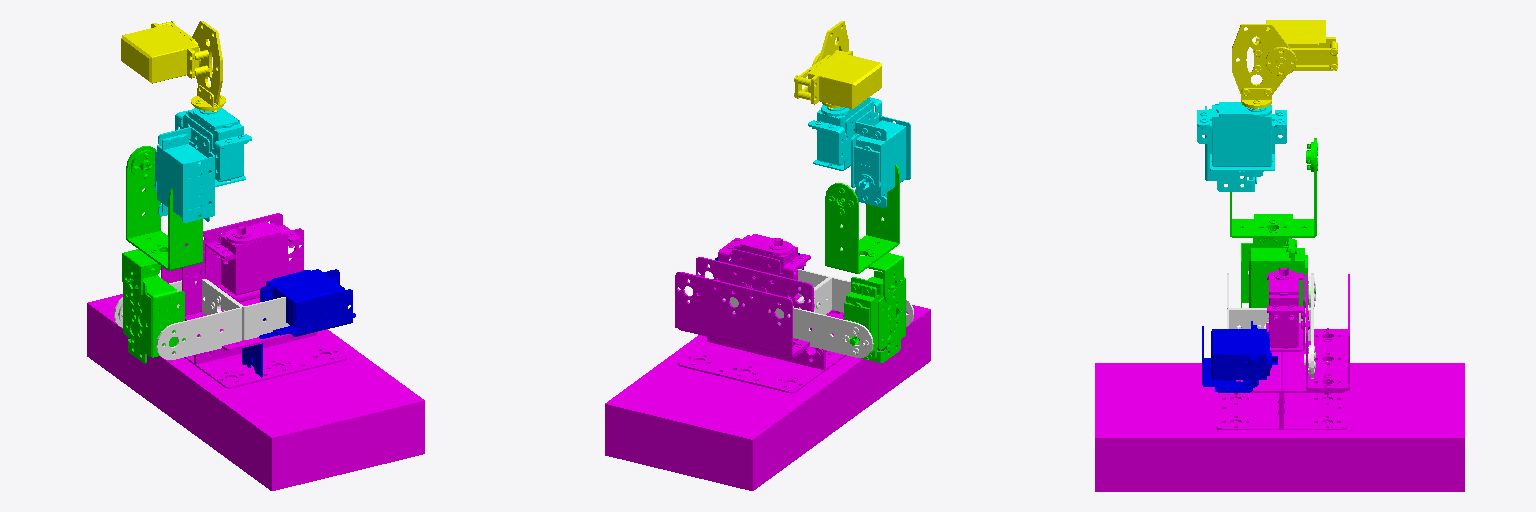
The robot description file, URDF, robot "dragon_model":
<robot name="dragon_model" version="1.0">
  
  <joint name="left_hand_finger_joint" type="prismatic">
        <parent link="servo5_servo6_link" />
        <child link="Left_finger_link" />
        <origin rpy="-1.57080 0.00000 0.00000" xyz="0.00121974 0.02889340 -0.00150631" />
        <axis xyz="0 -1 0" />
        <limit effort="20" lower="0.0" upper="0.014" velocity="0.2" />
  </joint>
  <joint name="right_hand_finger_joint" type="prismatic">
        <parent link="servo5_servo6_link" />
        <child link="Right_finger_link" />
        <origin rpy="-1.57080 0.00000 0.00000" xyz="0.00121974 0.02889340 -0.00150631" />
        <axis xyz="0 1 0" />
        <limit effort="20" lower="0.0" upper="0.014" velocity="0.2" />
        <mimic joint="left_hand_finger_joint" />
  </joint>
    
  <joint name="wrist_link_joint" type="revolute">
    <limit lower="0.00000" upper="3.14200" effort="0.00000" velocity="0.00000"/>
    <origin rpy="-1.57080 0.00000 0.00000" xyz="0.02635443 0.01175584 -0.05258687"/>
    <parent link="servo4_servo5_link"/>
    <child link="servo5_servo6_link"/>
    <axis xyz="0.00000 1.00000 0.00000"/>
  </joint>
  <joint name="servo1_servo2_link_joint" type="revolute">
    <limit lower="0.00000" upper="3.14000" effort="0.00000" velocity="0.00000"/>
    <origin rpy="0.00000 0.00000 -1.57080" xyz="0.03520297 -0.02811148 0.12893631"/>
    <parent link="base_link"/>
    <child link="servo1_servo2_link"/>
    <axis xyz="0.00000 0.00000 1.00000"/>
  </joint>
  <joint name="servo2_servo3_link.000_joint" type="revolute">
    <limit lower="0.00000" upper="3.14200" effort="0.00000" velocity="0.00000"/>
    <origin rpy="-1.57080 3.14159 1.57080" xyz="-0.02486075 -0.00188139 0.01544978"/>
    <parent link="servo1_servo2_link"/>
    <child link="servo2_servo3_link.000"/>
    <axis xyz="0.00000 0.00000 1.00000"/>
  </joint>
  <joint name="servo3_servo4_link_joint" type="revolute">
    <limit lower="0.00000" upper="3.14200" effort="0.00000" velocity="0.00000"/>
    <origin rpy="-1.57080 0.00000 3.14159" xyz="0.10273750 -0.00041143 -0.00050667"/>
    <parent link="servo2_servo3_link.000"/>
    <child link="servo3_servo4_link"/>
    <axis xyz="0.00000 1.00000 0.00000"/>
  </joint>
  <joint name="servo4_servo5_link_joint" type="revolute">
    <limit lower="0.00000" upper="3.14200" effort="0.00000" velocity="0.00000"/>
    <origin rpy="-0.00000 0.00000 -0.00000" xyz="0.00858899 0.00200931 -0.10183699"/>
    <parent link="servo3_servo4_link"/>
    <child link="servo4_servo5_link"/>
    <axis xyz="0.00000 1.00000 0.00000"/>
  </joint>
  
  
  <link name="Left_finger_link">
    <collision name="left_finger_collision">
      <origin rpy="0.00000 0.00000 1.57080" xyz="0.00452769 -0.00841628 0.02220276"/>
      <geometry>
        <mesh filename="package://moveit_resources_dragon_description/meshes/stl/left_finger.stl" scale="0.00100 0.00100 0.00100"/>
      </geometry>
    </collision>
    
    <visual name="left_finger">
      <origin rpy="0.00000 0.00000 1.57080" xyz="0.00452769 -0.00841628 0.02220276"/>
      <geometry>
        <mesh filename="package://moveit_resources_dragon_description/meshes/stl/left_finger.stl" scale="0.00100 0.00100 0.00100"/>
      </geometry>
      <material name="white">
        <color rgba="1 1 1 1"/>
      </material>
    </visual>
    
  </link>
  
  <link name="Right_finger_link">
    <collision name="right_finger_collision">
      <origin rpy="0.00000 0.00000 1.57080" xyz="0.00452769 0.00554310 0.02219476"/>
      <geometry>
        <mesh filename="package://moveit_resources_dragon_description/meshes/stl/right_finger.stl" scale="0.00100 0.00100 0.00100"/>
      </geometry>
    </collision>
    
    <visual name="right_finger">
      <origin rpy="0.00000 0.00000 1.57080" xyz="0.00452769 0.00554310 0.02219476"/>
      <geometry>
        <mesh filename="package://moveit_resources_dragon_description/meshes/stl/right_finger.stl" scale="0.00100 0.00100 0.00100"/>
      </geometry>
      <material name="white">
        <color rgba="1 1 1 1"/>
      </material>
    </visual>
  </link>
  
  
  <link name="base_link">
    <collision name="base_collision">
      <origin rpy="1.57080 0.0 -1.57080" xyz="0.00000 0.00000 0.06715160"/>
      <geometry>
        <mesh filename="package://moveit_resources_dragon_description/meshes/stl/base.stl" scale="0.00100 0.00100 -0.00100"/>
      </geometry>
    </collision>
    <visual name="base">
      <origin rpy="1.57080 0.0 -1.57080" xyz="0.00000 0.00000 0.06715160"/>
      <geometry>
        <mesh filename="package://moveit_resources_dragon_description/meshes/stl/base.stl" scale="0.00100 0.00100 -0.00100"/>
      </geometry>
      <material name="Magenta">
        <color rgba="1.0 0.0 1.0 1.0"/>
      </material>
    </visual>
  </link>
  <link name="servo1_servo2_link">
    <collision name="Joint1_collision">
      <origin rpy="0.00000 0.00000 -0.00000" xyz="0.00036541 0.00745386 0.00306137"/>
      <geometry>
        <mesh filename="package://moveit_resources_dragon_description/meshes/stl/joint1.stl" scale="0.00100 0.00100 0.00100"/>
      </geometry>
    </collision>
    <visual name="Joint1">
      <origin rpy="0.00000 0.00000 -0.00000" xyz="0.00036541 0.00745386 0.00306137"/>
      <geometry>
        <mesh filename="package://moveit_resources_dragon_description/meshes/stl/joint1.stl" scale="0.00100 0.00100 0.00100"/>
      </geometry>
      <material name="Blue">
        <color rgba="0 0 1 1"/>
      </material>
    </visual>
  </link>
  <link name="servo2_servo3_link.000">
    <collision name="joint2_collision">
      <origin rpy="1.57080 -0.00000 1.57080" xyz="0.00000935 0.00002258 -0.00463633"/>
      <geometry>
        <mesh filename="package://moveit_resources_dragon_description/meshes/stl/joint2.stl" scale="0.00100 0.00100 0.00100"/>
      </geometry>
    </collision>
    <visual name="joint2">
      <origin rpy="1.57080 -0.00000 1.57080" xyz="0.00000935 0.00002258 -0.00463633"/>
      <geometry>
        <mesh filename="package://moveit_resources_dragon_description/meshes/stl/joint2.stl" scale="0.00100 0.00100 0.00100"/>
      </geometry>
      <material name="white">
        <color rgba="1 1 1 1"/>
      </material>
    </visual>
  </link>
  <link name="servo3_servo4_link">
    <collision name="Joint3_collision">
      <origin rpy="1.57080 -1.57080 0.00000" xyz="0.00001077 0.00020426 0.00000900"/>
      <geometry>
        <mesh filename="package://moveit_resources_dragon_description/meshes/stl/joint3.stl" scale="0.00100 0.00100 0.00100"/>
      </geometry>
    </collision>
    <visual name="Joint3">
      <origin rpy="1.57080 -1.57080 0.00000" xyz="0.00001077 0.00020426 0.00000900"/>
      <geometry>
        <mesh filename="package://moveit_resources_dragon_description/meshes/stl/joint3.stl" scale="0.00100 0.00100 0.00100"/>
      </geometry>
      <material name="Green">
        <color rgba="0 1 0 1"/>
      </material>
    </visual>
  </link>
  <link name="servo4_servo5_link">
    <collision name="Joint4_collision">
      <origin rpy="1.57080 0.00000 0.00000" xyz="-0.00058125 0.04363523 -0.00975798"/>
      <geometry>
        <mesh filename="package://moveit_resources_dragon_description/meshes/stl/joint4.stl" scale="0.00100 0.00100 0.00100"/>
      </geometry>
    </collision>
    <visual name="Joint4">
      <origin rpy="1.57080 0.00000 0.00000" xyz="-0.00058125 0.04363523 -0.00975798"/>
      <geometry>
        <mesh filename="package://moveit_resources_dragon_description/meshes/stl/joint4.stl" scale="0.00100 0.00100 0.00100"/>
      </geometry>
      <material name="Cyan">
        <color rgba="0.0 1.0 1.0 1.0"/>
      </material>
    </visual>
  </link>
  <link name="servo5_servo6_link">
    <collision name="Gripper_palm_collision">
      <origin rpy="-0.00000 0.00000 -0.00000" xyz="-0.00006979 -0.00434283 0.00002739"/>
      <geometry>
        <mesh filename="package://moveit_resources_dragon_description/meshes/stl/gripper_palm.stl" scale="0.00100 0.00100 0.00100"/>
      </geometry>
    </collision>
    <visual name="Gripper_palm">
      <origin rpy="0.00000 0.00000 -0.00000" xyz="-0.00006979 -0.00434283 0.00002739"/>
      <geometry>
        <mesh filename="package://moveit_resources_dragon_description/meshes/stl/gripper_palm.stl" scale="0.00100 0.00100 0.00100"/>
      </geometry>
      
      <material name="Yellow">
        <color rgba="1 1 0 1"/>
      </material>

    </visual>
  </link>
</robot>

--- Facts derived from the render (not from the file) ---
Views: 3 orthographic renders of the robot side by side, from view 1: azimuth 30°, elevation 25°; view 2: azimuth 150°, elevation 25°; view 3: azimuth 270°, elevation 25°.
Model dragon_model with 8 links and 7 joints (5 revolute, 2 prismatic), rooted at base_link, posed all joints at 0.
Visible links, largest first — view 1: base_link, servo3_servo4_link, servo4_servo5_link, servo5_servo6_link, servo2_servo3_link.000, servo1_servo2_link; view 2: base_link, servo3_servo4_link, servo4_servo5_link, servo5_servo6_link, servo2_servo3_link.000; view 3: base_link, servo4_servo5_link, servo5_servo6_link, servo3_servo4_link, servo1_servo2_link, servo2_servo3_link.000.
Boxes of the visible links, x1,y1,x2,y2 form: base_link: (87, 213, 424, 490); servo3_servo4_link: (122, 146, 202, 363); servo4_servo5_link: (154, 108, 251, 222); servo5_servo6_link: (121, 21, 225, 111); servo2_servo3_link.000: (114, 279, 289, 359); servo1_servo2_link: (242, 269, 355, 377); base_link: (605, 234, 930, 490); servo3_servo4_link: (825, 164, 905, 362); servo4_servo5_link: (808, 97, 910, 207); servo5_servo6_link: (794, 21, 881, 108); servo2_servo3_link.000: (723, 269, 913, 357); base_link: (1095, 268, 1464, 491); servo4_servo5_link: (1197, 102, 1286, 191); servo5_servo6_link: (1232, 20, 1337, 108); servo3_servo4_link: (1230, 138, 1317, 307); servo1_servo2_link: (1202, 321, 1277, 392); servo2_servo3_link.000: (1227, 273, 1315, 378).
Bounding box of the posed robot: 0.1542 × 0.238 × 0.2852 m (x, y, z).
Meshes: 8 distinct files referenced, 6 mesh visuals loaded (6 binary STL); not drawn: 2 (reference not matched to a file when rendering).